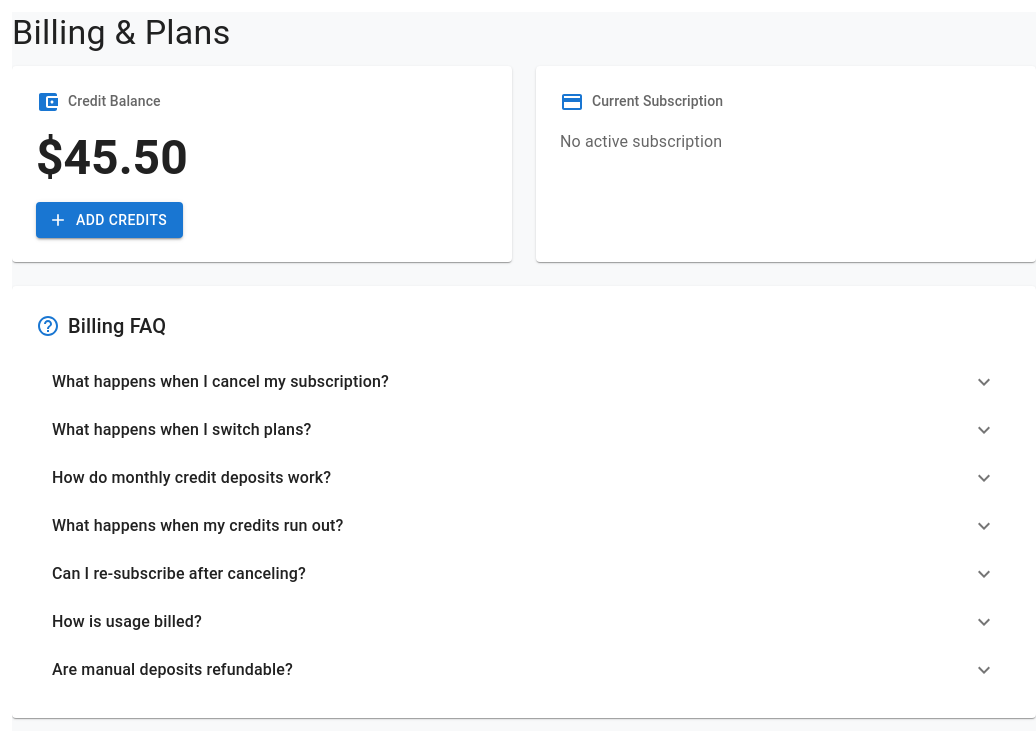
OrganizationBillingPage › FAQ › FAQ accordion expands on click
Expected: the text "remains active until the end" is not shown
Click the button "What happens when I cancel my subscription?". click: (220, 382)
box: [36, 358, 1012, 406]
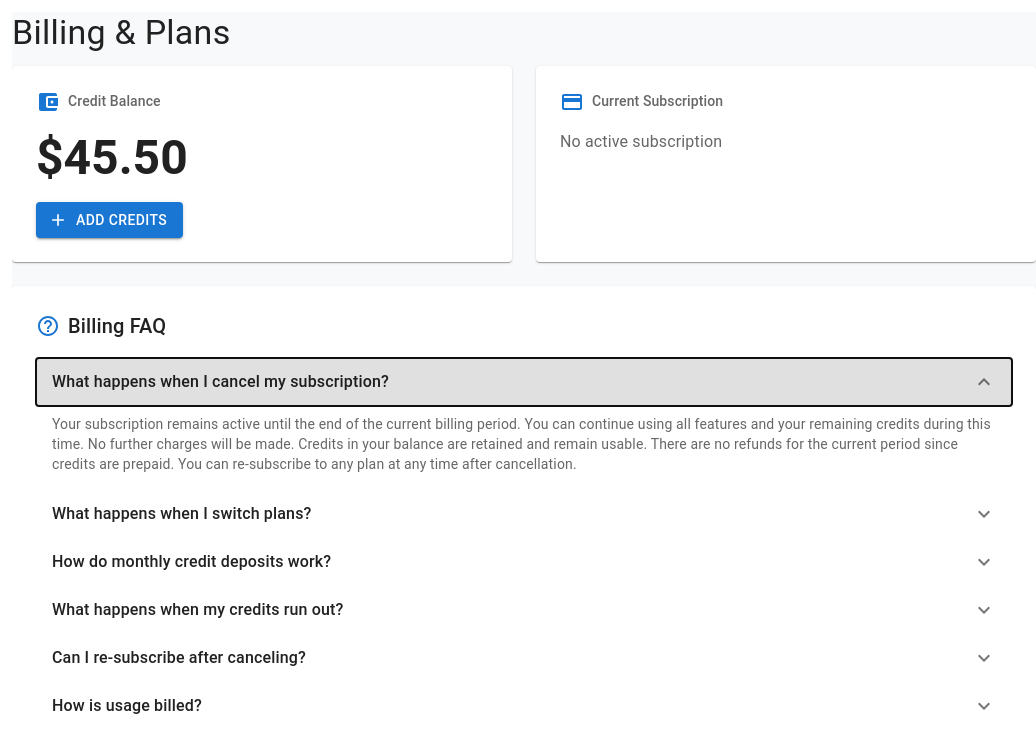
Result: the text "remains active until the end" is shown at [52, 416, 991, 472]
